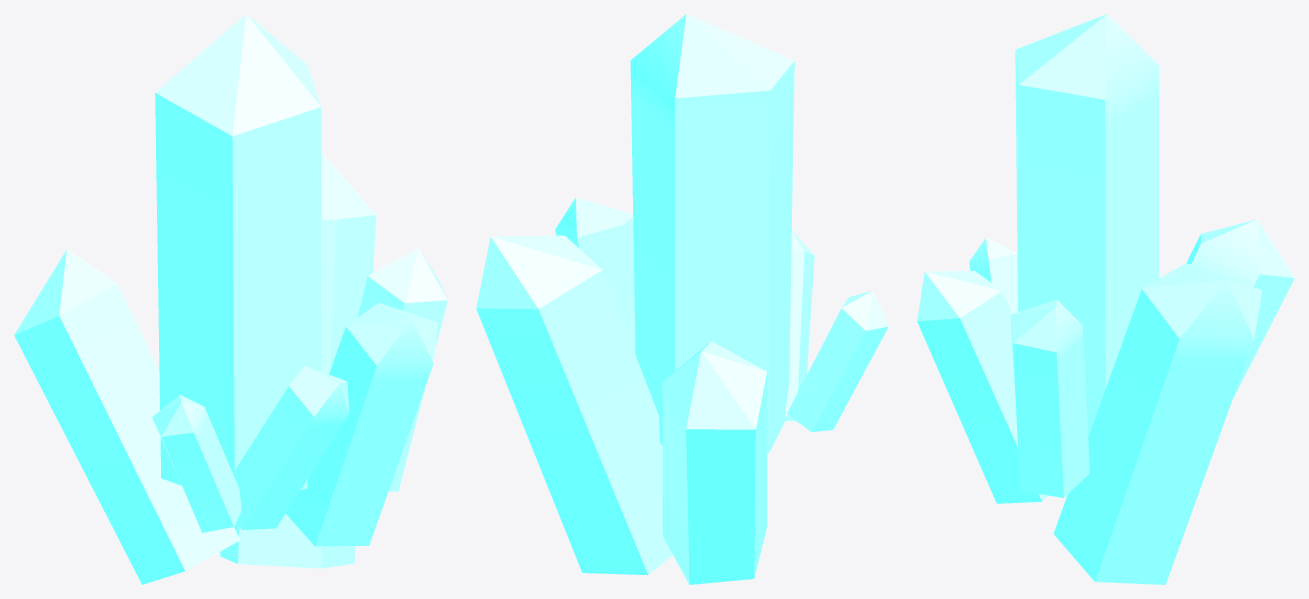
The model's file is Green crystal.fbx.
3 renders of one model, left to right at view 1: azimuth 30°, elevation 25°; view 2: azimuth 150°, elevation 25°; view 3: azimuth 270°, elevation 25°, orthographic. The views are drawn at different scales.
Parts seen in each view (by area): view 1: Green crystal; view 2: Green crystal; view 3: Green crystal.
Part boxes in pixels (left/top/right/bottom): Green crystal: left=14, top=14, right=447, bottom=584; Green crystal: left=476, top=14, right=888, bottom=584; Green crystal: left=917, top=14, right=1294, bottom=584.
Size of the model in its own units: 440 by 762 by 486.
